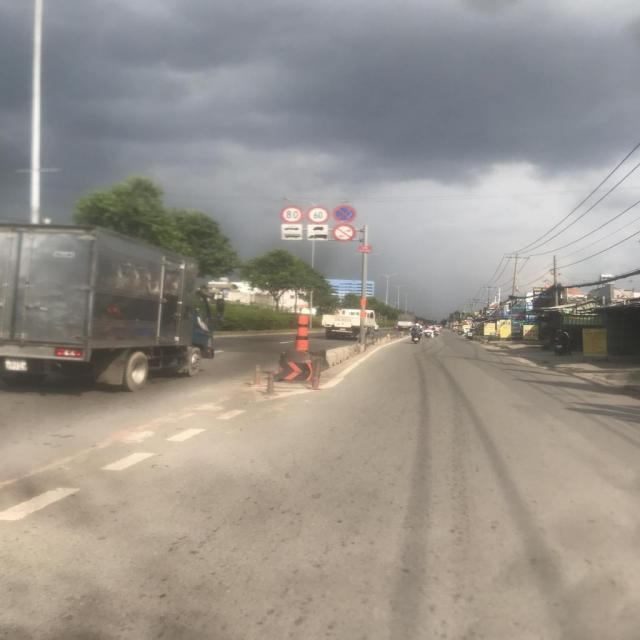127-toc-do-toi-da-60: (307, 205, 329, 222)
127-toc-do-toi-da-80: (280, 204, 304, 223)
130-cam-dung-va-do-xe: (332, 204, 356, 223)
